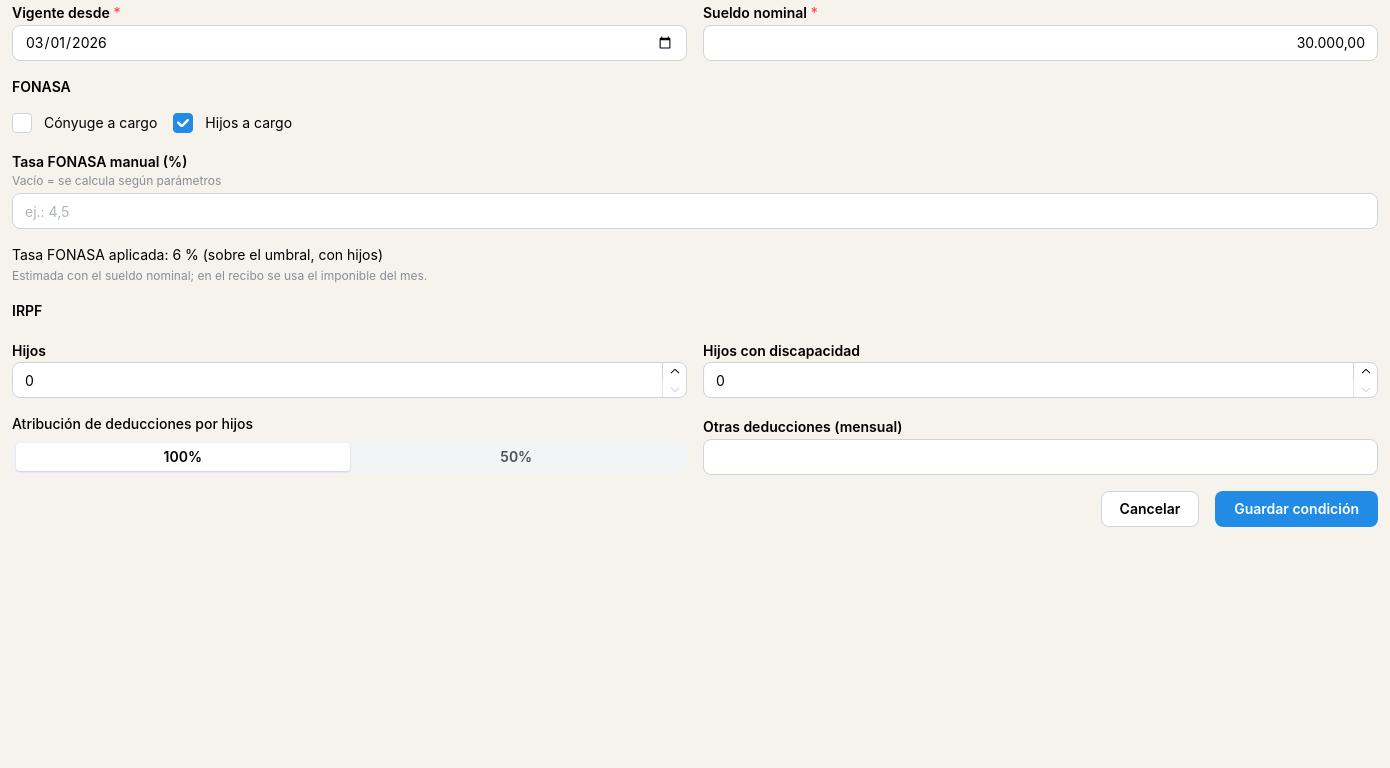
CondicionForm FONASA preview › asks main for the rate and refreshes it when "Cónyuge a cargo" changes
Check: the text "Tasa FONASA aplicada: 6 % (sobre el umbral, con hijos)" is shown, box [12,246,383,263]
Check: the text "en el recibo se usa el imponible del mes" is shown, box [12,268,427,283]
What coordinates should you click on to do the following:
click the checkbox labelled "Cónyuge a cargo"
I would click on:
 (22, 123)
Its box is [12,113,32,133].
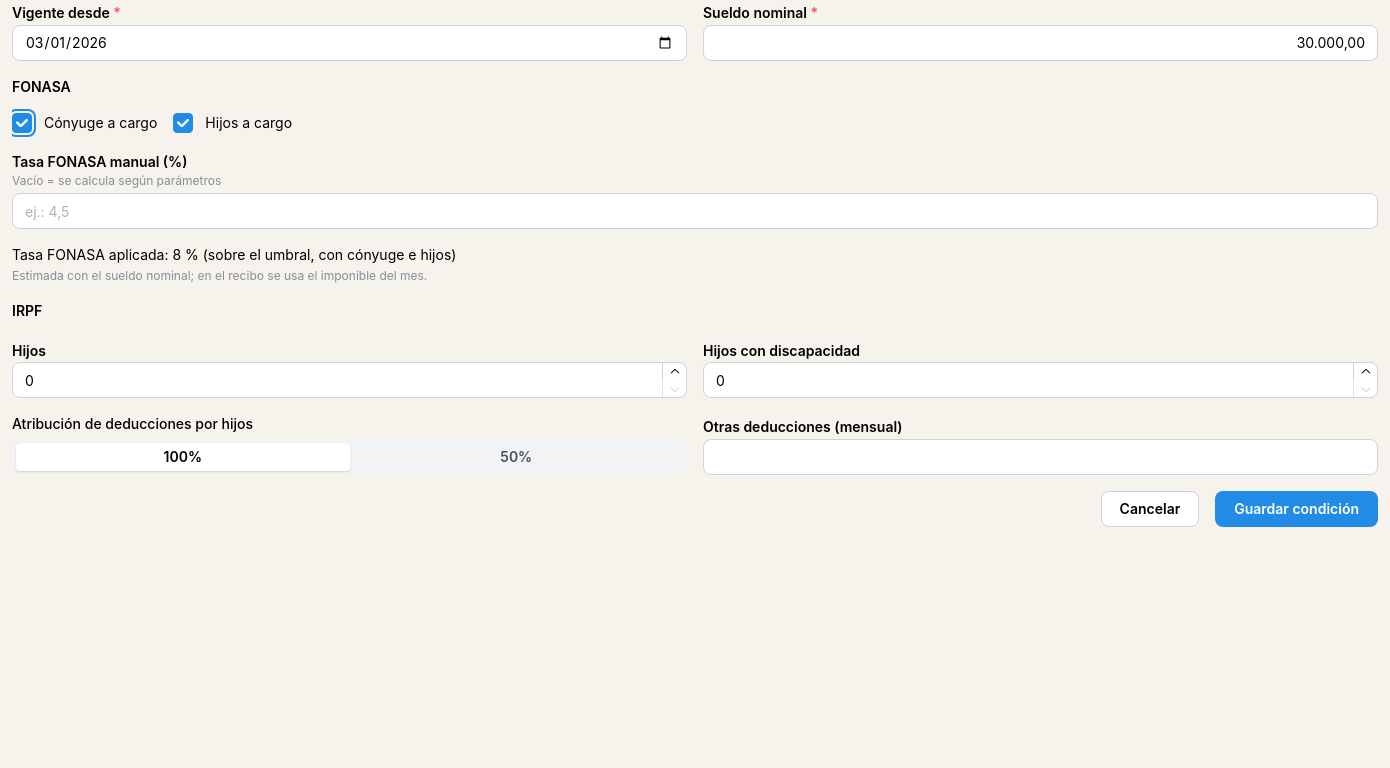
Check: the text "Tasa FONASA aplicada: 8 % (sobre el umbral, con cónyuge e hijos)" is shown, box [12,246,456,263]
